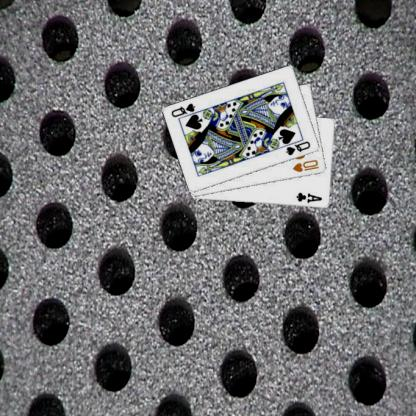10H: (292, 157, 322, 174)
AC: (296, 190, 325, 204)
QS: (285, 138, 313, 157), (171, 101, 198, 118)
